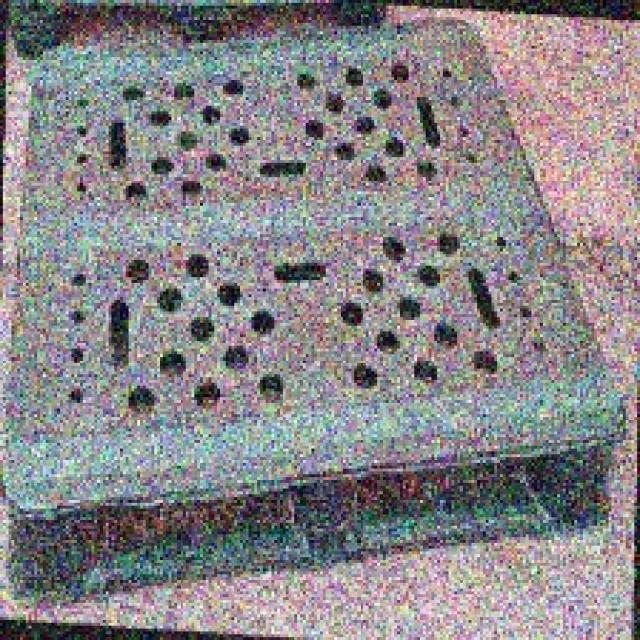igps: (0, 14, 632, 616)
